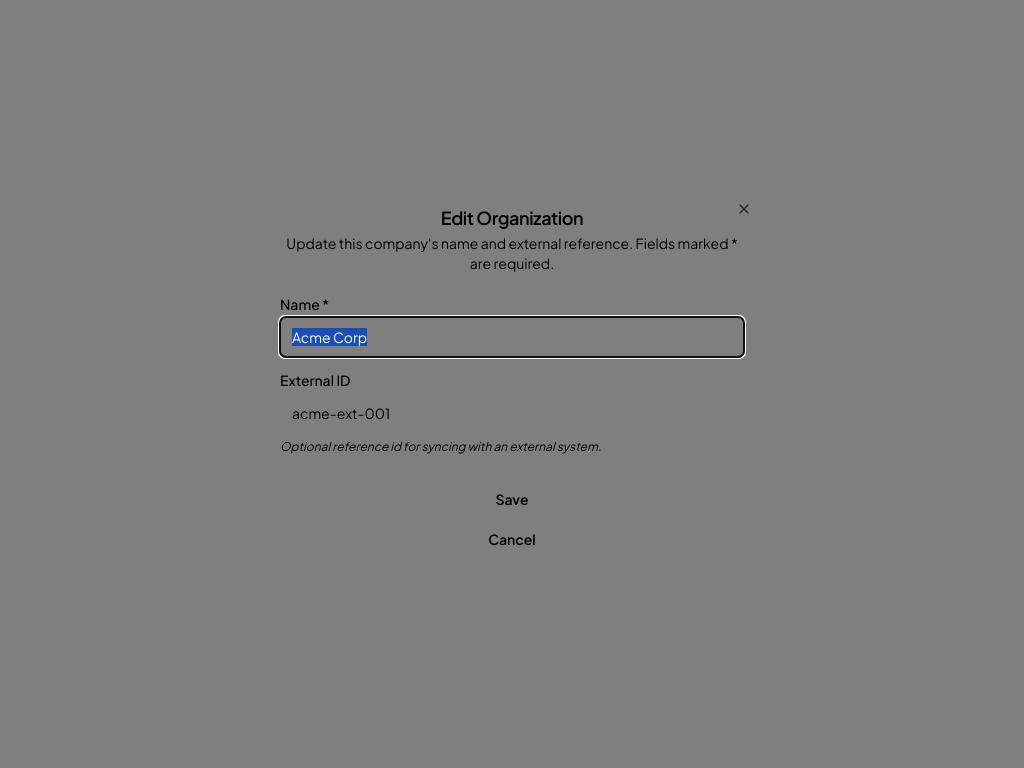
Scenario: EditOrganizationModal › (3) empty Name blocks submit with inline error, no fetch
Clear the field labelled "Name *": (512, 337) [280,317,744,357]
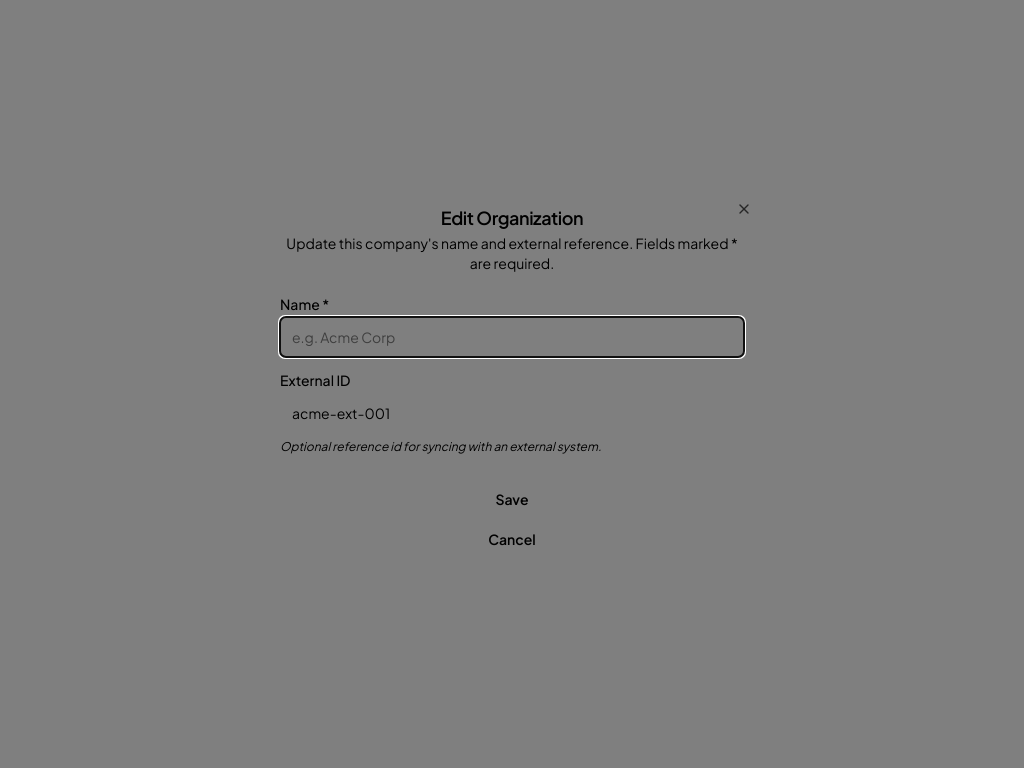
Click the button "Save": (512, 499) [280,479,744,519]
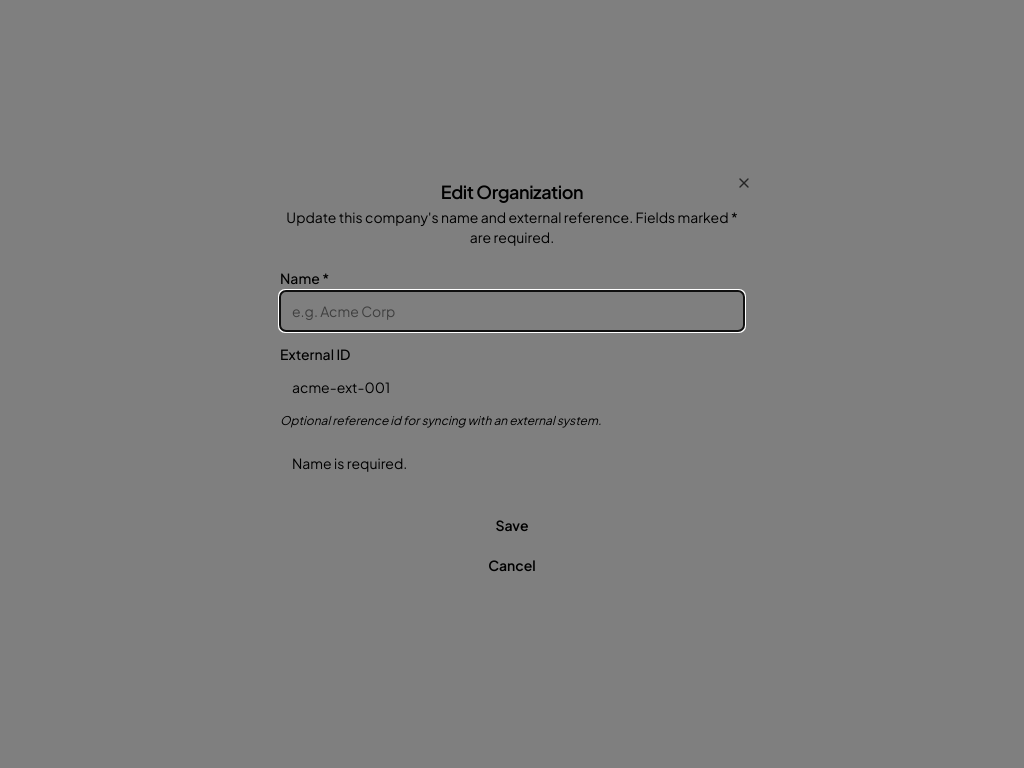
Expected: the message shows "Name is required", [292,454,407,472]
